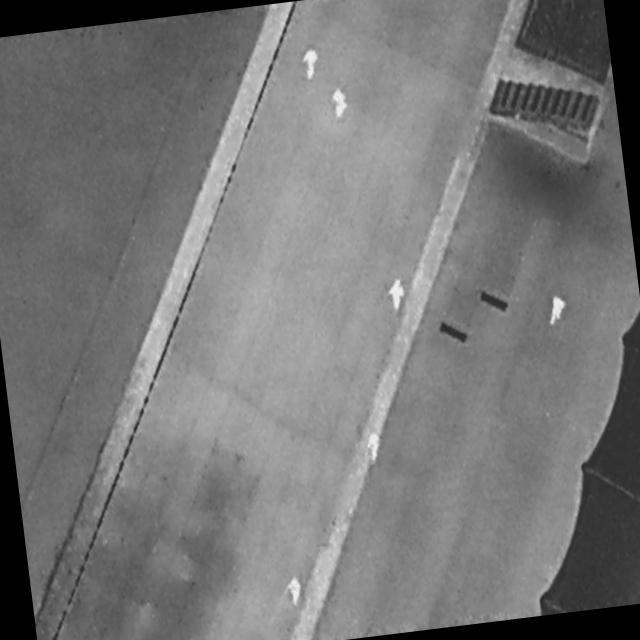person: (543, 291, 571, 331), (385, 274, 411, 314), (299, 46, 323, 84), (285, 575, 305, 609), (332, 87, 350, 122), (366, 431, 384, 465)
